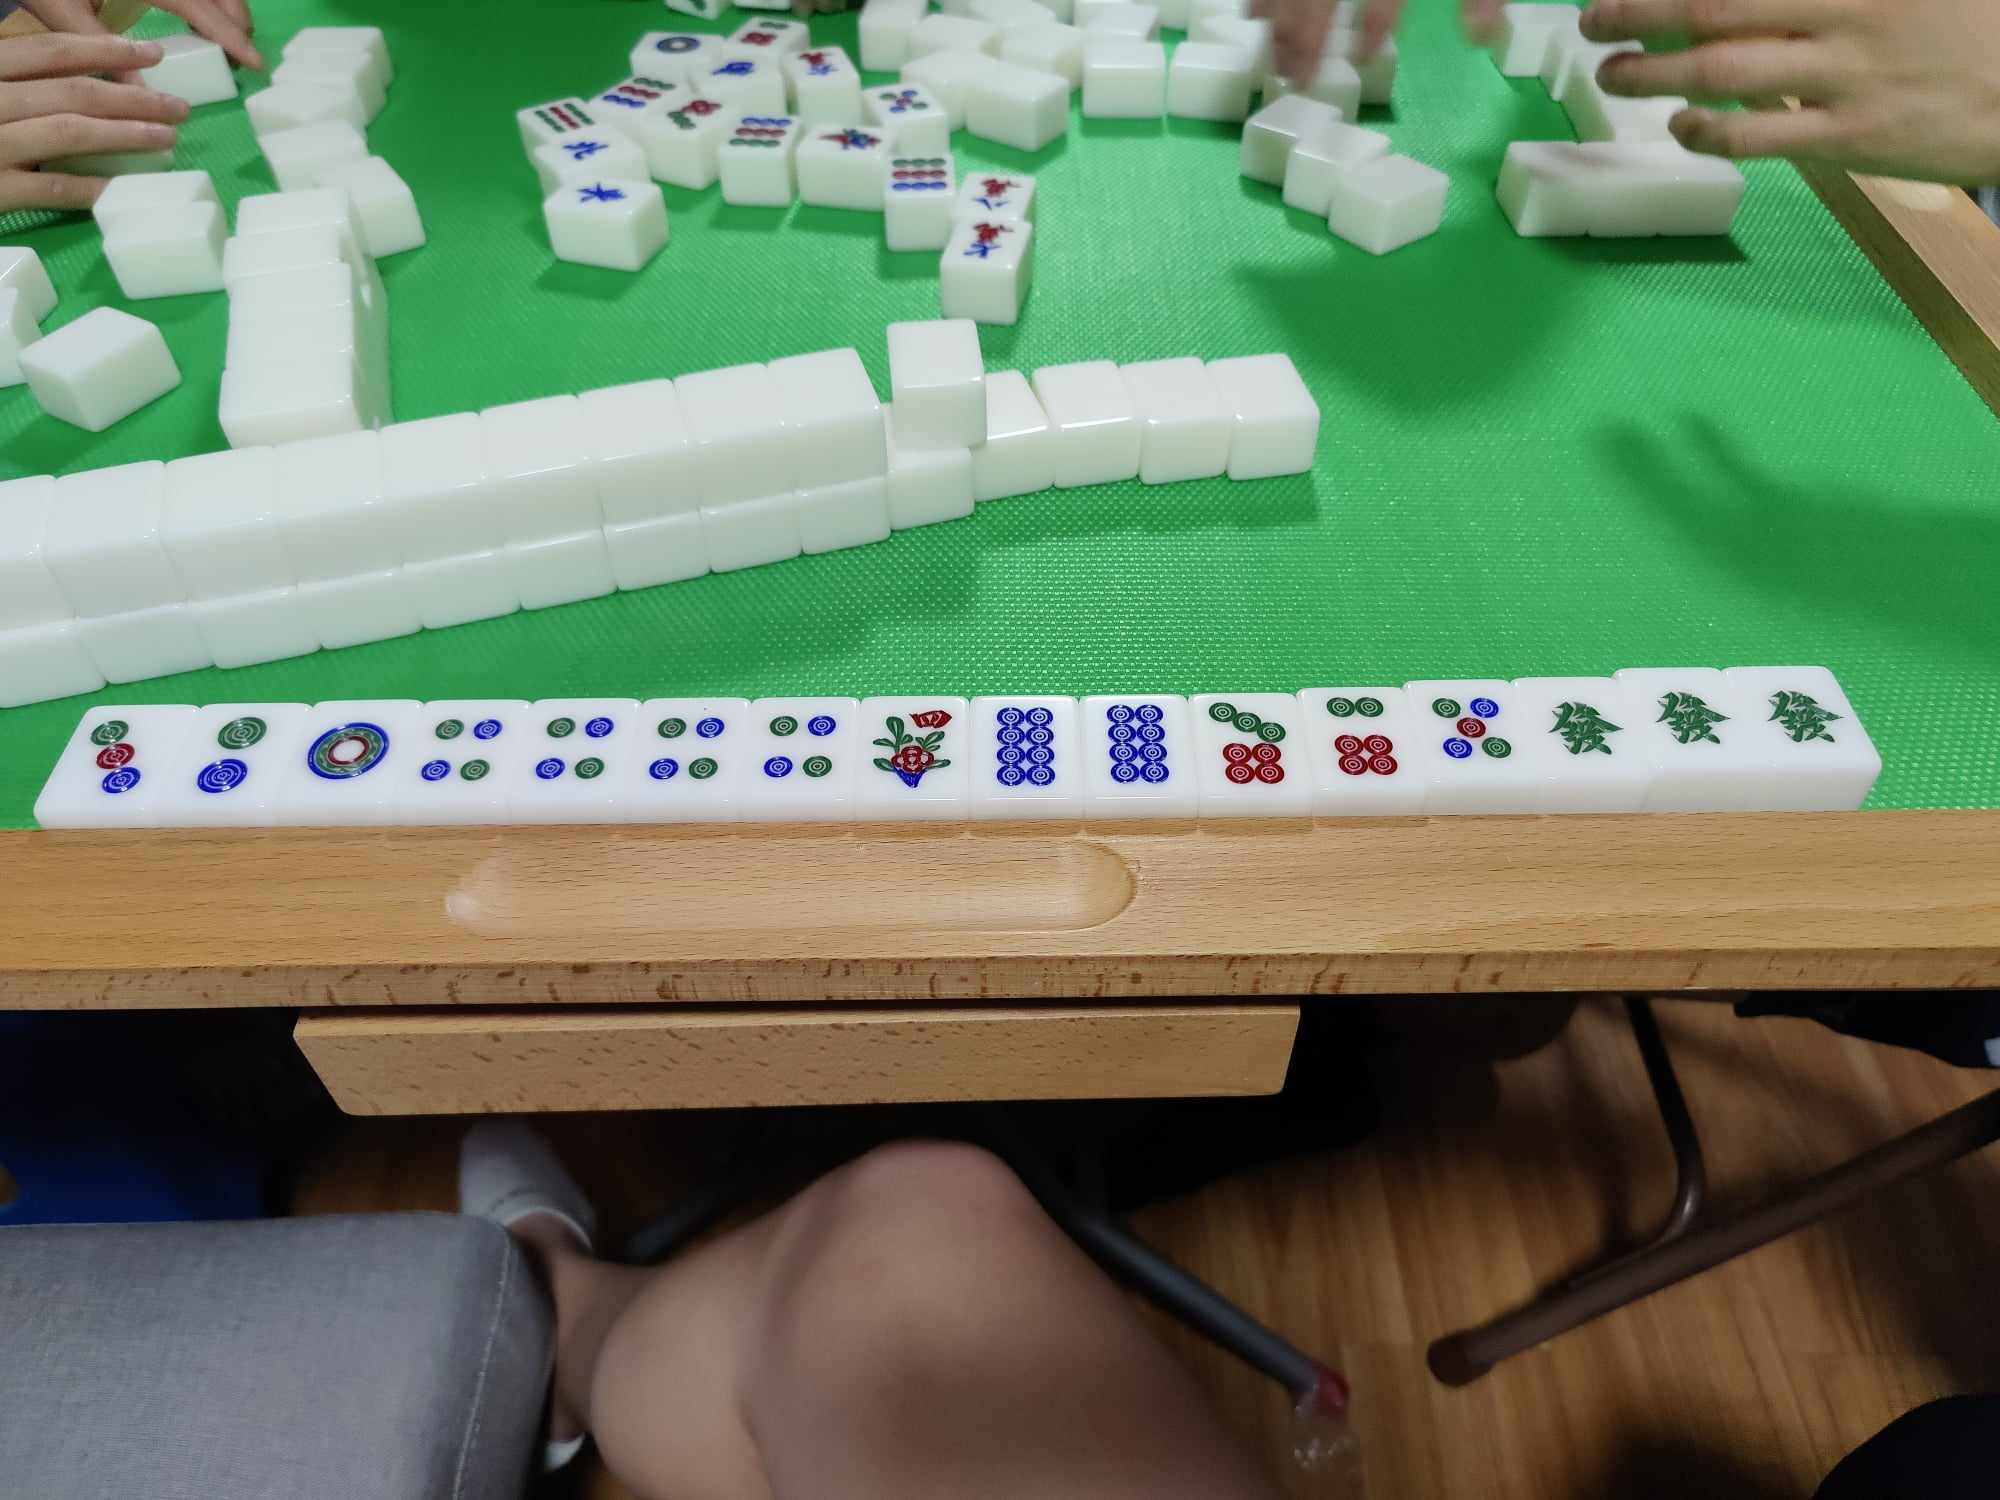circle-eight: (1093, 696, 1184, 807), (984, 700, 1072, 807)
circle-five: (1420, 685, 1521, 778)
circle-four: (526, 706, 624, 804), (751, 706, 843, 804), (414, 709, 506, 804), (646, 704, 732, 800)
circle-one: (306, 704, 398, 800)
circle-seven: (1198, 695, 1301, 800)
circle-six: (1317, 695, 1405, 797)
circle-three: (83, 711, 157, 808)
circle-two: (194, 707, 272, 808)
flower-red_four: (865, 700, 965, 800)
honor-green_dragon: (1537, 685, 1630, 780), (1644, 676, 1735, 770), (1751, 678, 1850, 759)
